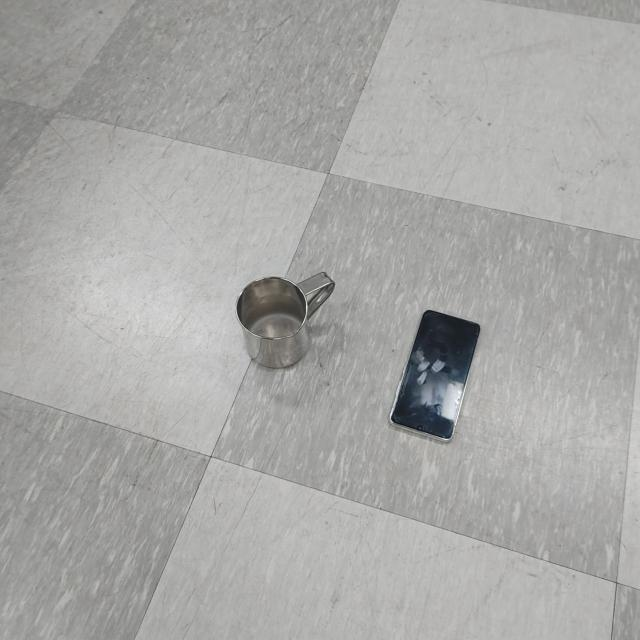cup: (234, 269, 337, 372)
phone: (389, 306, 484, 445)
